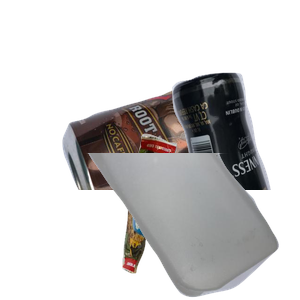glass: (106, 70, 300, 250)
metal: (60, 79, 300, 259)
plastic: (84, 153, 300, 300)
trash: (120, 131, 290, 300)
